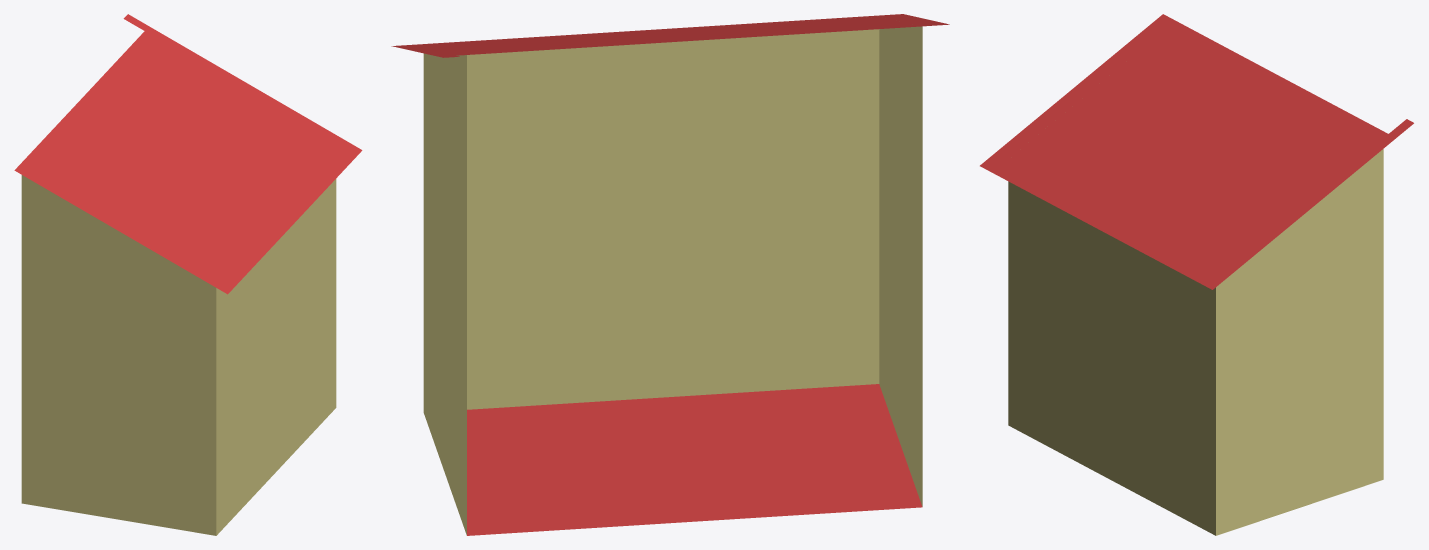
3 views of the same model, side by side, from view 1: azimuth 30°, elevation 25°; view 2: azimuth 150°, elevation 25°; view 3: azimuth 270°, elevation 25° (orthographic). The views are drawn at different scales.
Bounding box in the file's own units: 10.65 × 10.55 × 9.56.
